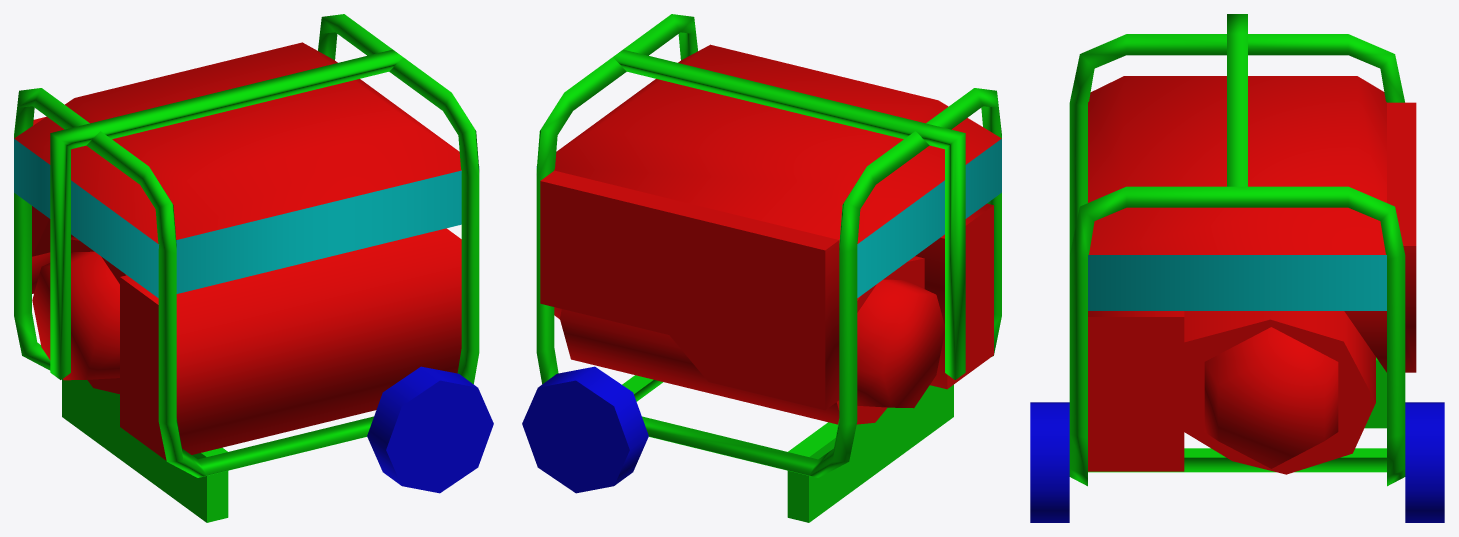
Rendered from Generator.fbx.
3 views of the same model, side by side, from view 1: azimuth 30°, elevation 25°; view 2: azimuth 150°, elevation 25°; view 3: azimuth 270°, elevation 25° (orthographic). The views are drawn at different scales.
Parts seen in each view (by area): view 1: Generator; view 2: Generator; view 3: Generator.
Boxes of the visible parts, x1=… form: Generator: x1=14, y1=14, x2=493, y2=522; Generator: x1=522, y1=14, x2=1001, y2=522; Generator: x1=1030, y1=14, x2=1444, y2=522.
Size of the model in its own units: 489 by 450 by 464.
